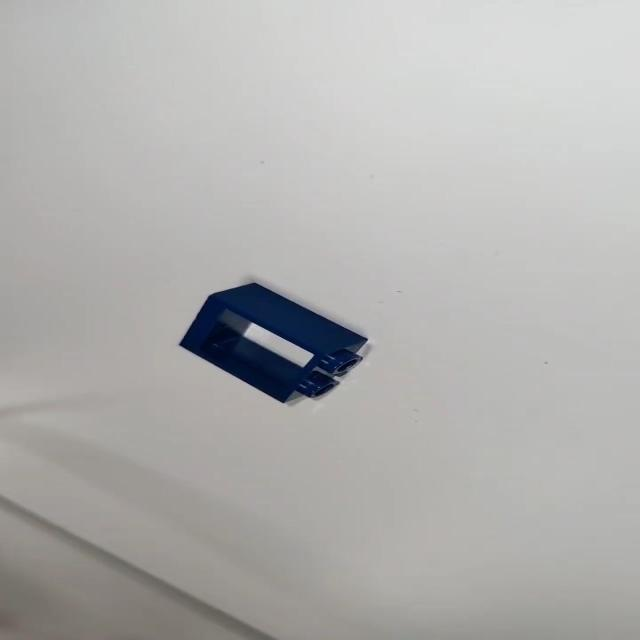W2x1x2: (174, 279, 376, 407)
